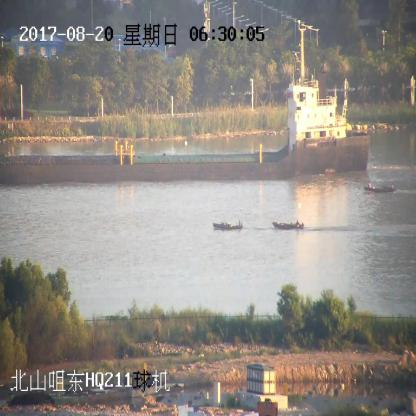Fishing Boat: (272, 218, 304, 230), (364, 181, 393, 194), (213, 220, 243, 231)
